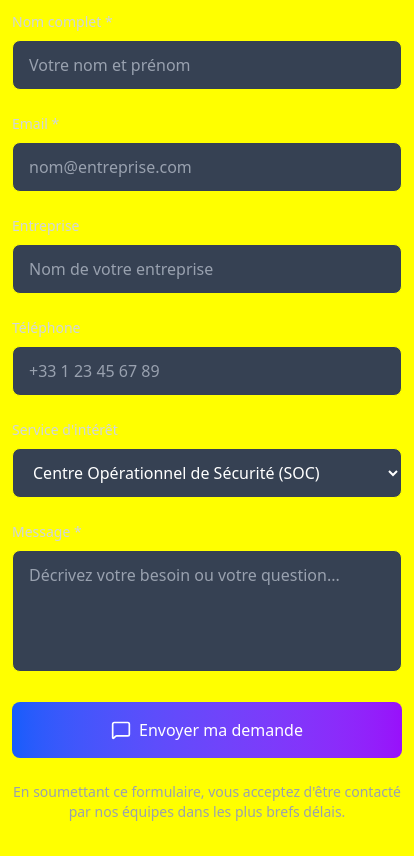
Test: ContactForm - Test 6: Gestion d'erreur API › API Error Responses › handles service selection with error
Type "John Doe" into the field labelled "Nom complet *".
click(207, 65); type("John Doe")  # box [12,40,402,90]
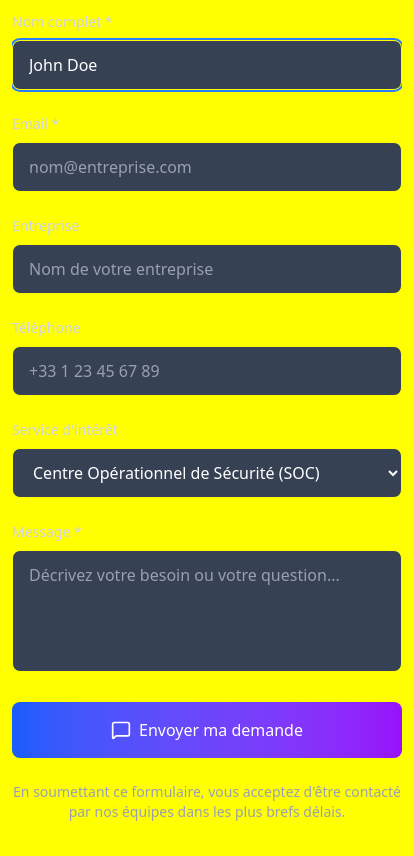
Type "john@example.com" into the field labelled "Email *".
click(207, 167); type("john@example.com")  # box [12,142,402,192]
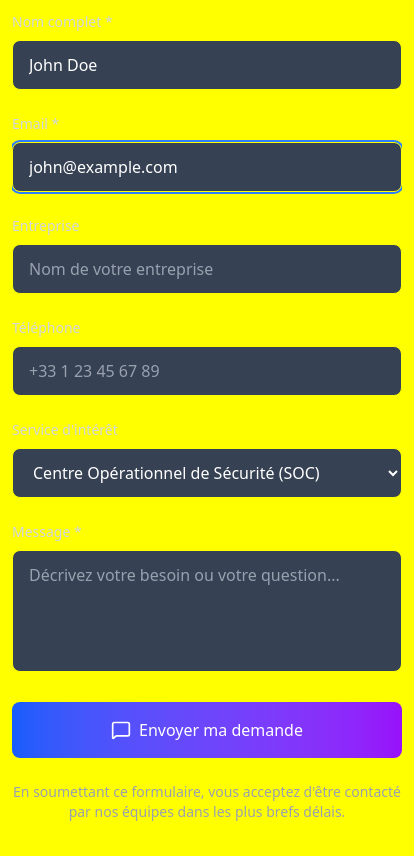
Type "Test message SOC" into the text box labelled "Message *".
click(207, 611); type("Test message SOC")  # box [12,550,402,672]
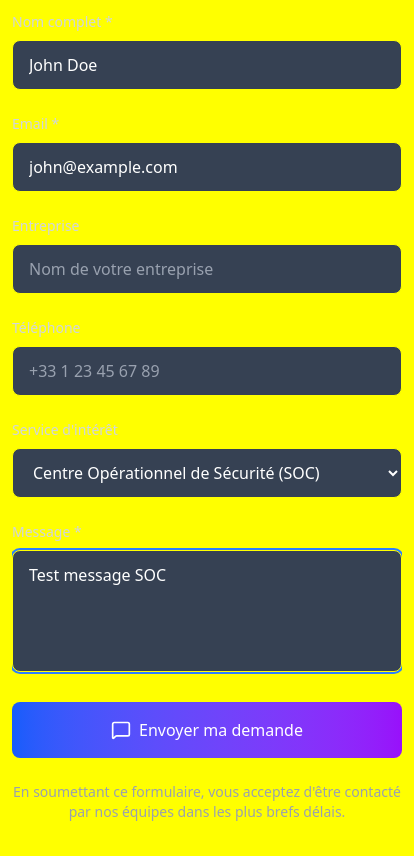
Click the button "Envoyer ma demande".
click(207, 730)  # box [12,702,402,758]
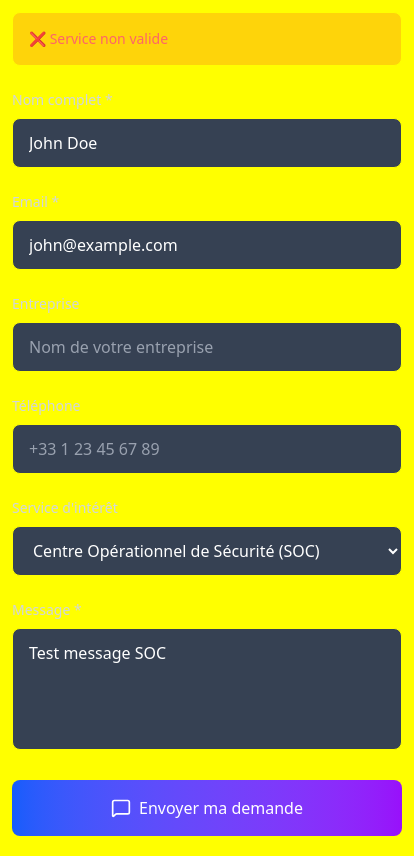
Expected: the text "❌ Service non valide" is shown, [12,12,402,66]
